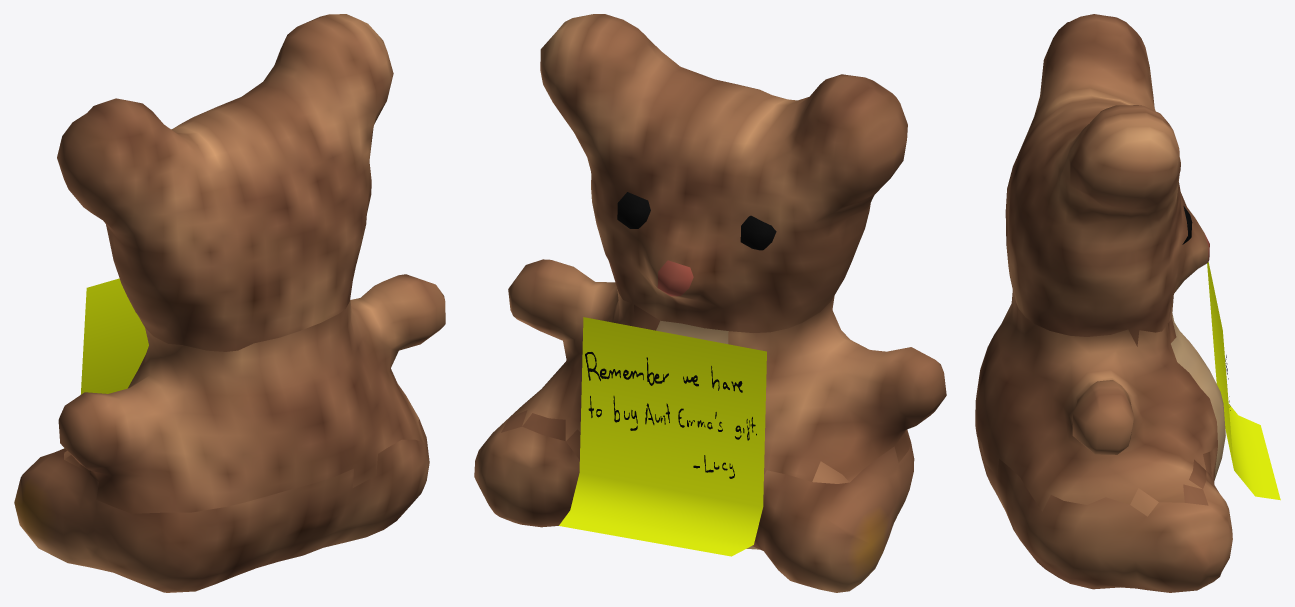
The model's file is Oso Peluche.fbx.
The picture shows the model from 3 angles, left to right: view 1: azimuth 30°, elevation 25°; view 2: azimuth 150°, elevation 25°; view 3: azimuth 270°, elevation 25°; orthographic projection. The views are drawn at different scales.
Parts seen in each view (by area): view 1: Osito.001; view 2: Osito.001; view 3: Osito.001.
Boxes of the visible parts, x1,y1,x2,y2 form: Osito.001: (14, 14, 445, 592); Osito.001: (474, 14, 946, 592); Osito.001: (975, 14, 1280, 592).
Size of the model in its own units: 19.69 by 23.5 by 13.79.
